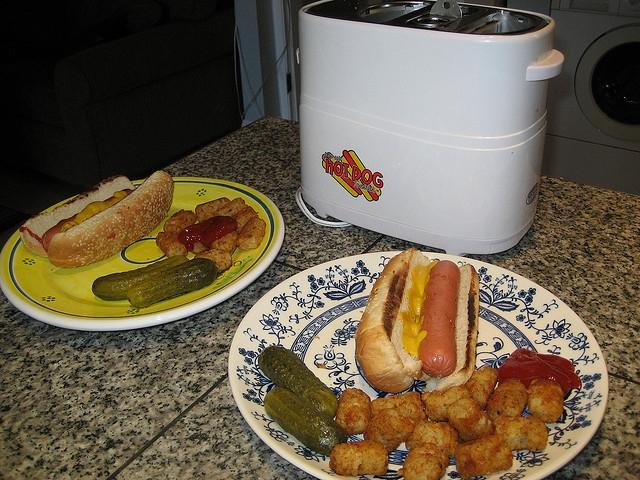potato: (454, 434, 512, 480), (364, 407, 416, 456), (329, 440, 389, 478), (448, 398, 496, 442), (405, 420, 459, 458), (422, 384, 474, 422), (396, 443, 449, 480), (494, 416, 548, 452), (335, 388, 372, 436), (486, 380, 528, 421), (370, 391, 428, 420), (528, 378, 564, 424), (465, 366, 498, 411), (164, 208, 198, 235), (194, 249, 232, 273), (156, 231, 188, 258), (210, 230, 239, 256), (214, 197, 248, 217)
